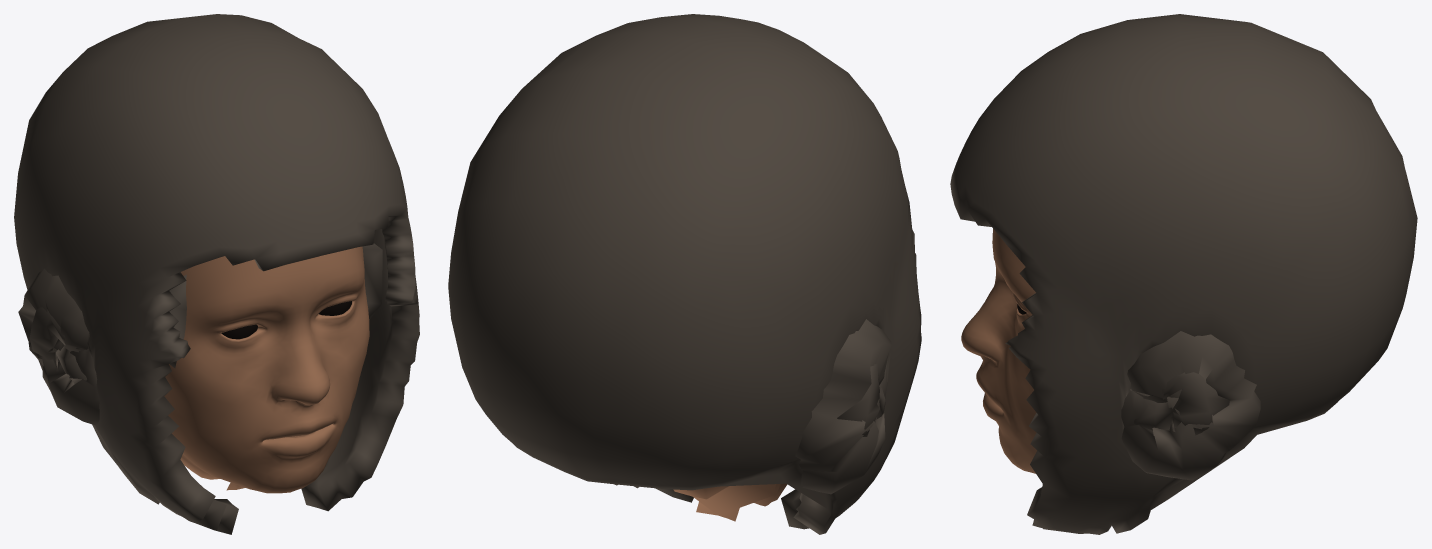
File: SM_Part_F2_head.gltf
3 renders of one model, left to right at view 1: azimuth 30°, elevation 25°; view 2: azimuth 150°, elevation 25°; view 3: azimuth 270°, elevation 25°, orthographic. The views are drawn at different scales.
Parts seen in each view (by area): view 1: SM_Part_F2_head; view 2: SM_Part_F2_head; view 3: SM_Part_F2_head.
Part boxes in pixels (box(x1,y1,x2,y2)): SM_Part_F2_head: box(14, 14, 419, 534); SM_Part_F2_head: box(448, 14, 921, 534); SM_Part_F2_head: box(950, 14, 1417, 534).
Size of the model in its own units: 0.2098 by 0.2506 by 0.2247.
